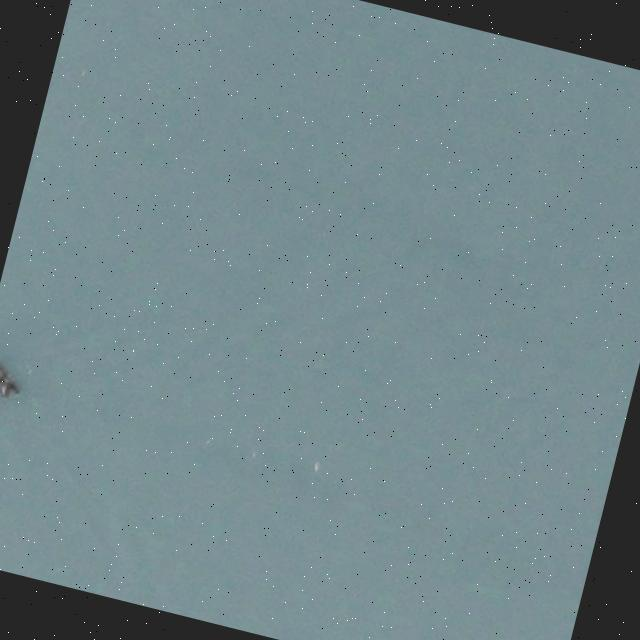seal: (0, 365, 20, 398)
